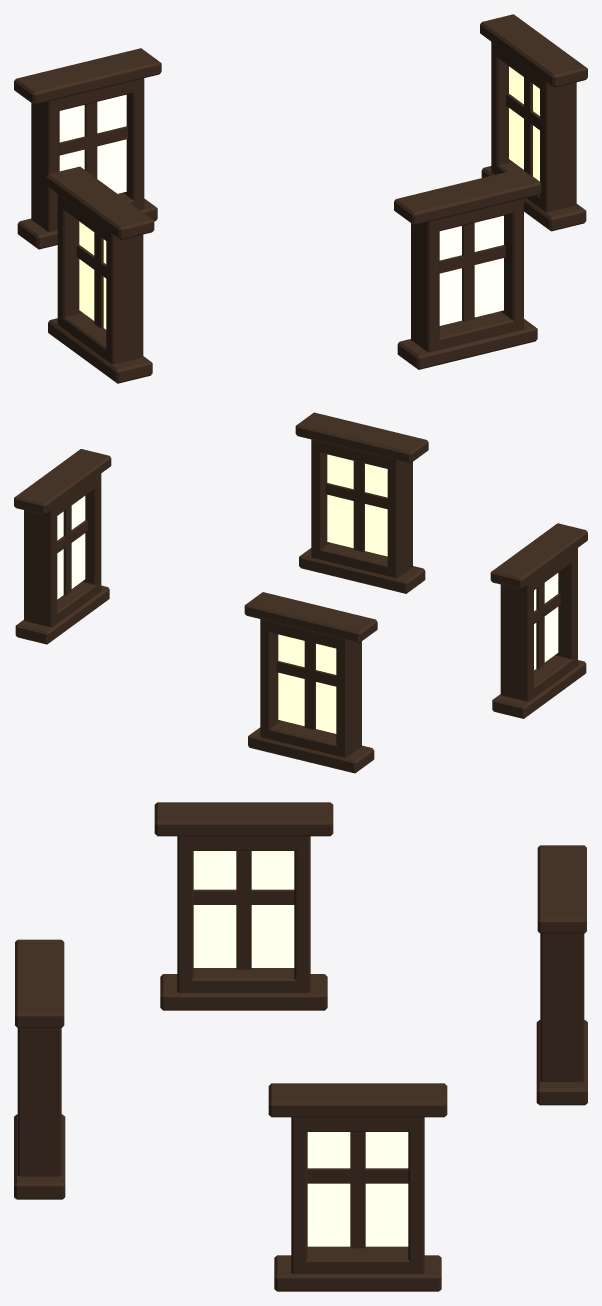
The model's file is Hut_Shop_Windows_0_-2.fbx.
3 views of the same model, one above another, from view 1: azimuth 30°, elevation 25°; view 2: azimuth 150°, elevation 25°; view 3: azimuth 270°, elevation 25° (orthographic). The views are drawn at different scales.
Visible parts, largest first — view 1: Hut_Shop_Windows_0_-2; view 2: Hut_Shop_Windows_0_-2; view 3: Hut_Shop_Windows_0_-2.
Boxes of the visible parts, bbox=[...] form: Hut_Shop_Windows_0_-2: bbox=[14, 14, 587, 383]; Hut_Shop_Windows_0_-2: bbox=[14, 412, 587, 773]; Hut_Shop_Windows_0_-2: bbox=[14, 802, 587, 1291].
Bounding box in the file's own units: 754 × 220 × 604.
